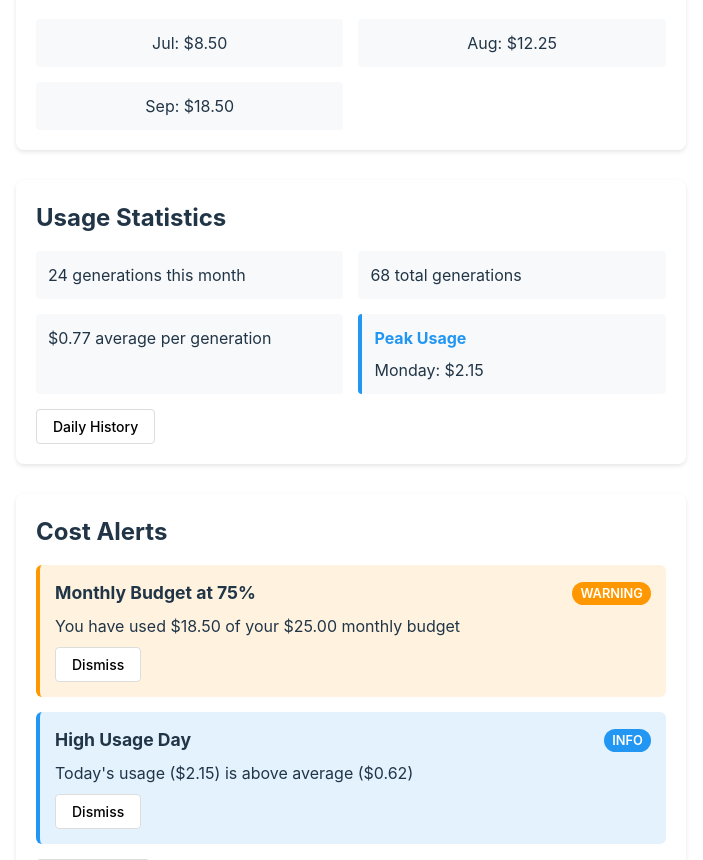
Scenario: CostMonitoring Component › Usage Analytics › should display daily cost history
(page scrolled)
Step 1. Click the button "Daily History" → (96, 427), box [36,409,155,444]
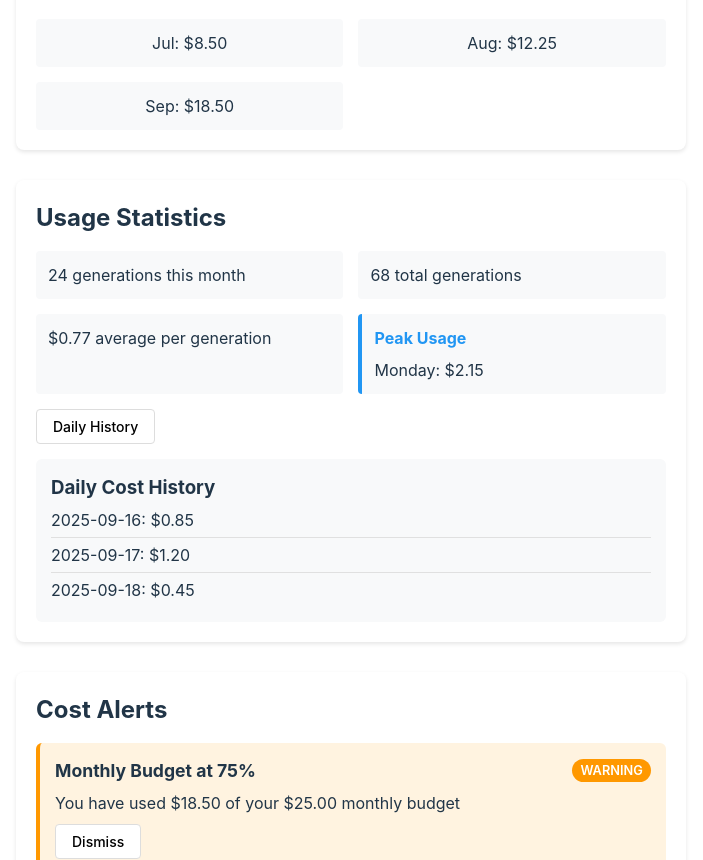
Check: the text "2025-09-16: $0.85" is shown, box [51,510,194,530]
Check: the text "2025-09-17: $1.20" is shown, box [51,544,190,564]
Check: the text "2025-09-18: $0.45" is shown, box [51,580,195,600]
